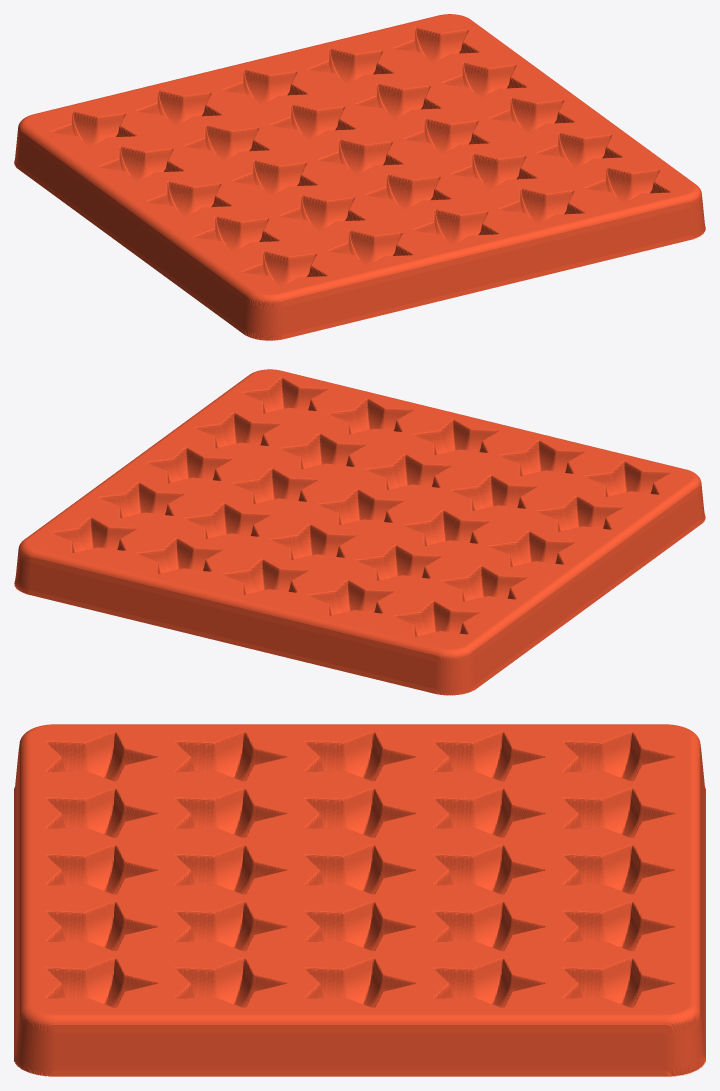
Rendered from mold.glb.
3 views of the same model, one above another, from view 1: azimuth 30°, elevation 25°; view 2: azimuth 150°, elevation 25°; view 3: azimuth 270°, elevation 25° (orthographic). The views are drawn at different scales.
Parts seen in each view (by area): view 1: geometry_0; view 2: geometry_0; view 3: geometry_0.
Boxes of the visible parts, x1,y1,x2,y2 form: geometry_0: [14, 14, 705, 340]; geometry_0: [14, 369, 705, 695]; geometry_0: [14, 724, 705, 1076].
Size of the model in its own units: 0.1584 by 0.0136 by 0.1532.
